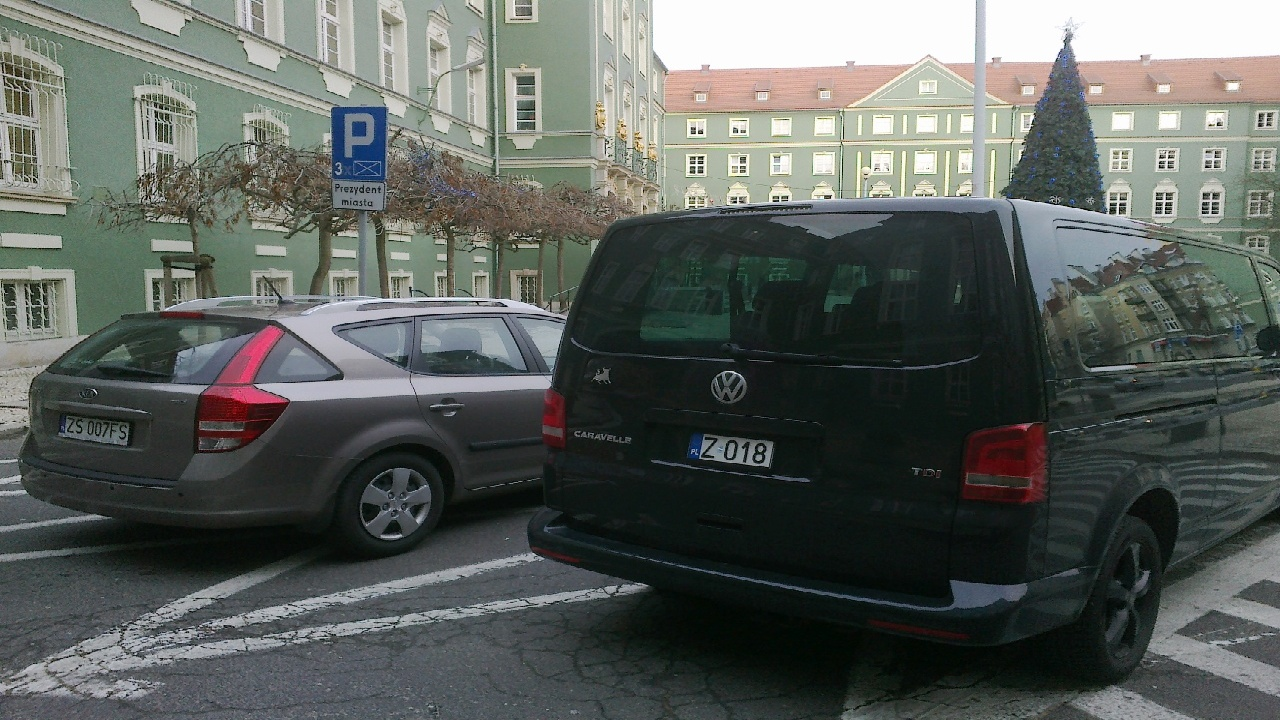D18: (329, 104, 392, 163)
